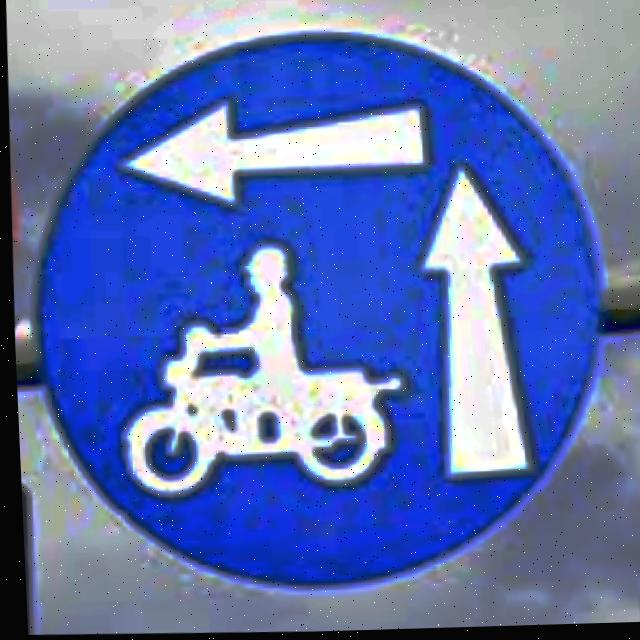twostageturn: (31, 34, 602, 595)
